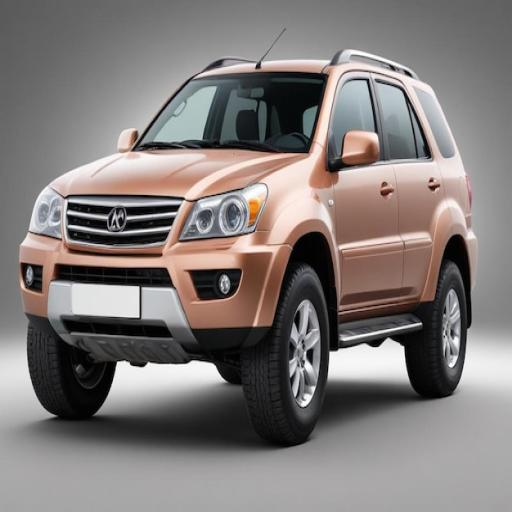suv: (20, 50, 477, 444)
